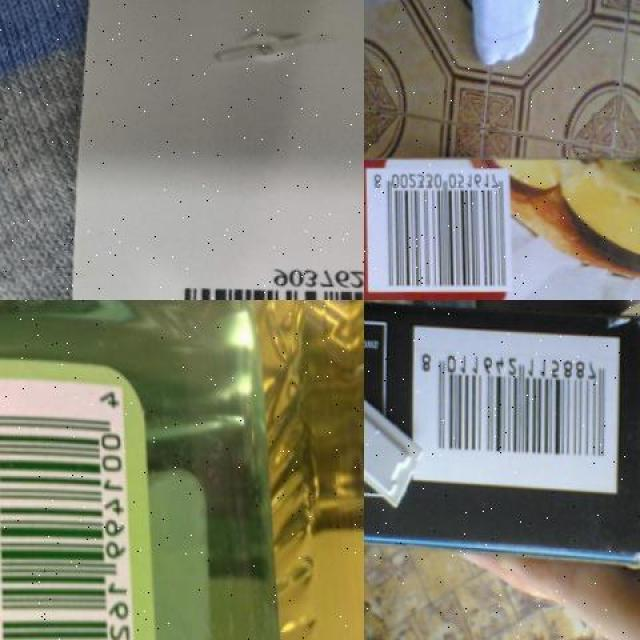Barcode: (0, 376, 137, 640), (410, 324, 622, 493), (364, 167, 512, 293), (165, 265, 364, 300)
